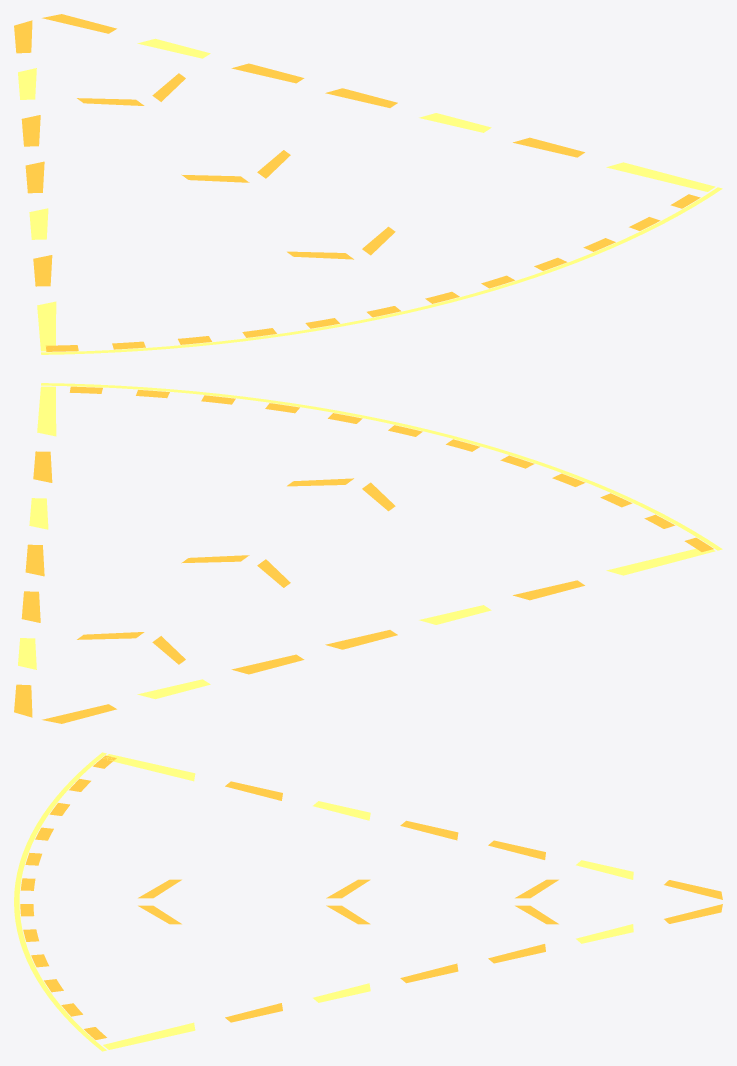
Rendered from e4-welder-cone-cue.glb.
The picture shows the model from 3 angles, top to bottom: view 1: azimuth 30°, elevation 25°; view 2: azimuth 150°, elevation 25°; view 3: azimuth 270°, elevation 25°; orthographic projection. The views are drawn at different scales.
Visible parts, largest first — view 1: Welder cone floor boundary; view 2: Welder cone floor boundary; view 3: Welder cone floor boundary.
Part boxes in pixels (x1,y1,x2,y2): Welder cone floor boundary: [14, 14, 722, 354]; Welder cone floor boundary: [14, 383, 722, 723]; Welder cone floor boundary: [14, 752, 722, 1051].
Size of the model in its own units: 5.63 by 0 by 5.64.
